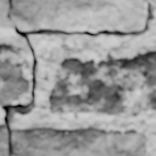brick: (49, 51, 155, 114), (0, 44, 28, 102)
broken_brick: (0, 0, 142, 29), (11, 127, 146, 155), (0, 124, 6, 155)
crack: (0, 0, 154, 155), (6, 0, 12, 17)
